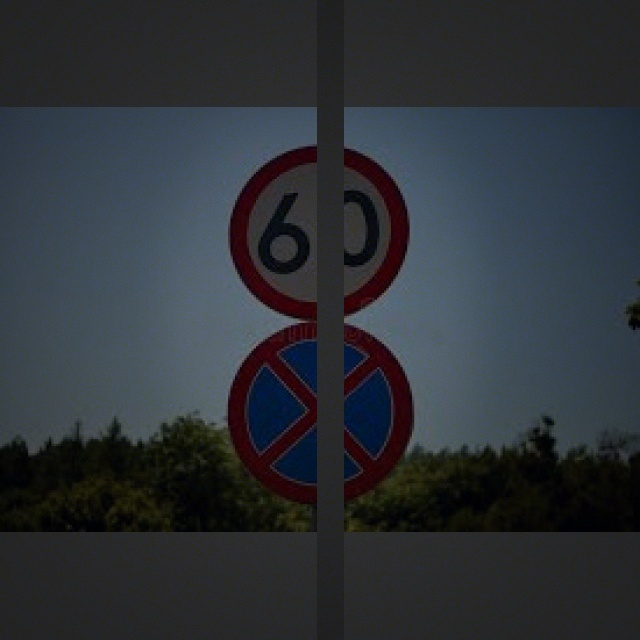Speed_Limit_60: (234, 145, 407, 321)
